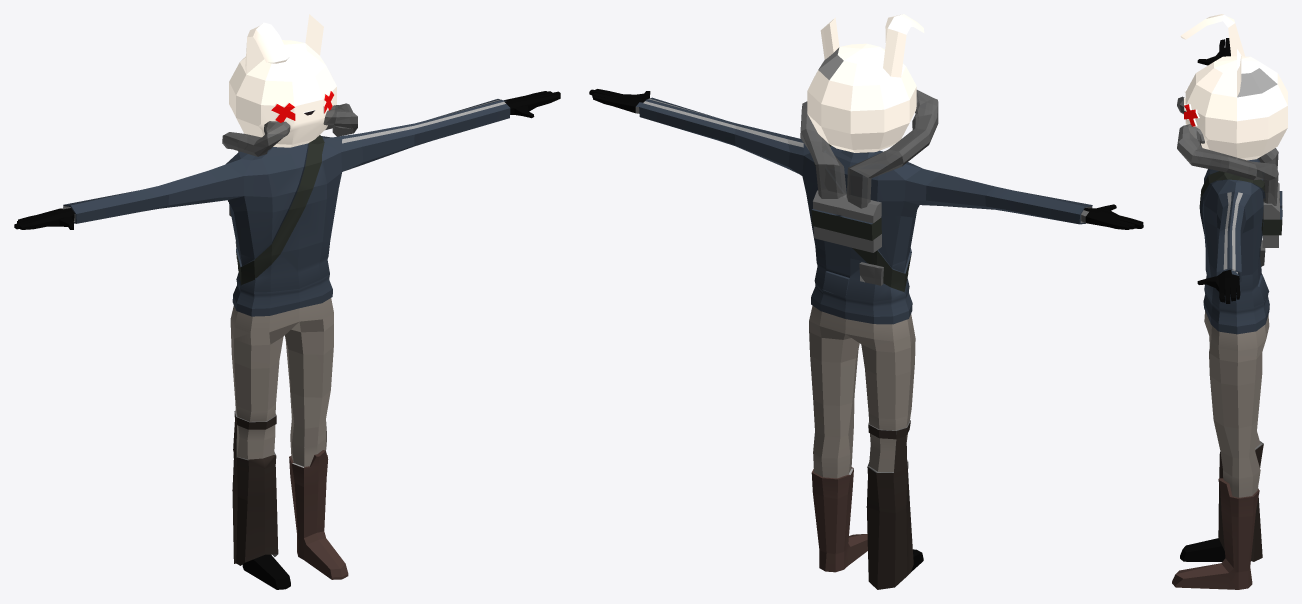
The model's file is WarthogModel.fbx.
3 views of the same model, side by side, from view 1: azimuth 30°, elevation 25°; view 2: azimuth 150°, elevation 25°; view 3: azimuth 270°, elevation 25° (orthographic). The views are drawn at different scales.
Parts seen in each view (by area): view 1: Warthog; view 2: Warthog; view 3: Warthog.
Part boxes in pixels (bbox=[...]): Warthog: bbox=[14, 14, 560, 589]; Warthog: bbox=[589, 14, 1143, 589]; Warthog: bbox=[1172, 14, 1287, 589].
Bounding box in the file's own units: 194 × 187 × 36.06.
